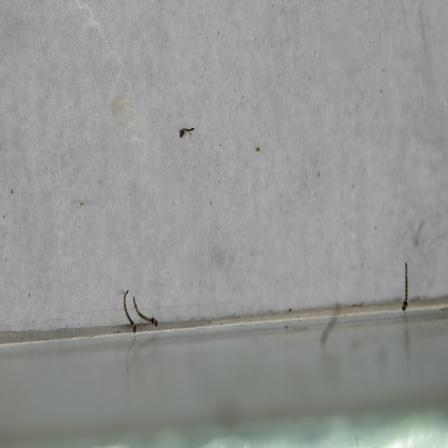Jentik-Nyamuk: (119, 287, 162, 334), (398, 259, 412, 317), (175, 123, 197, 143)
